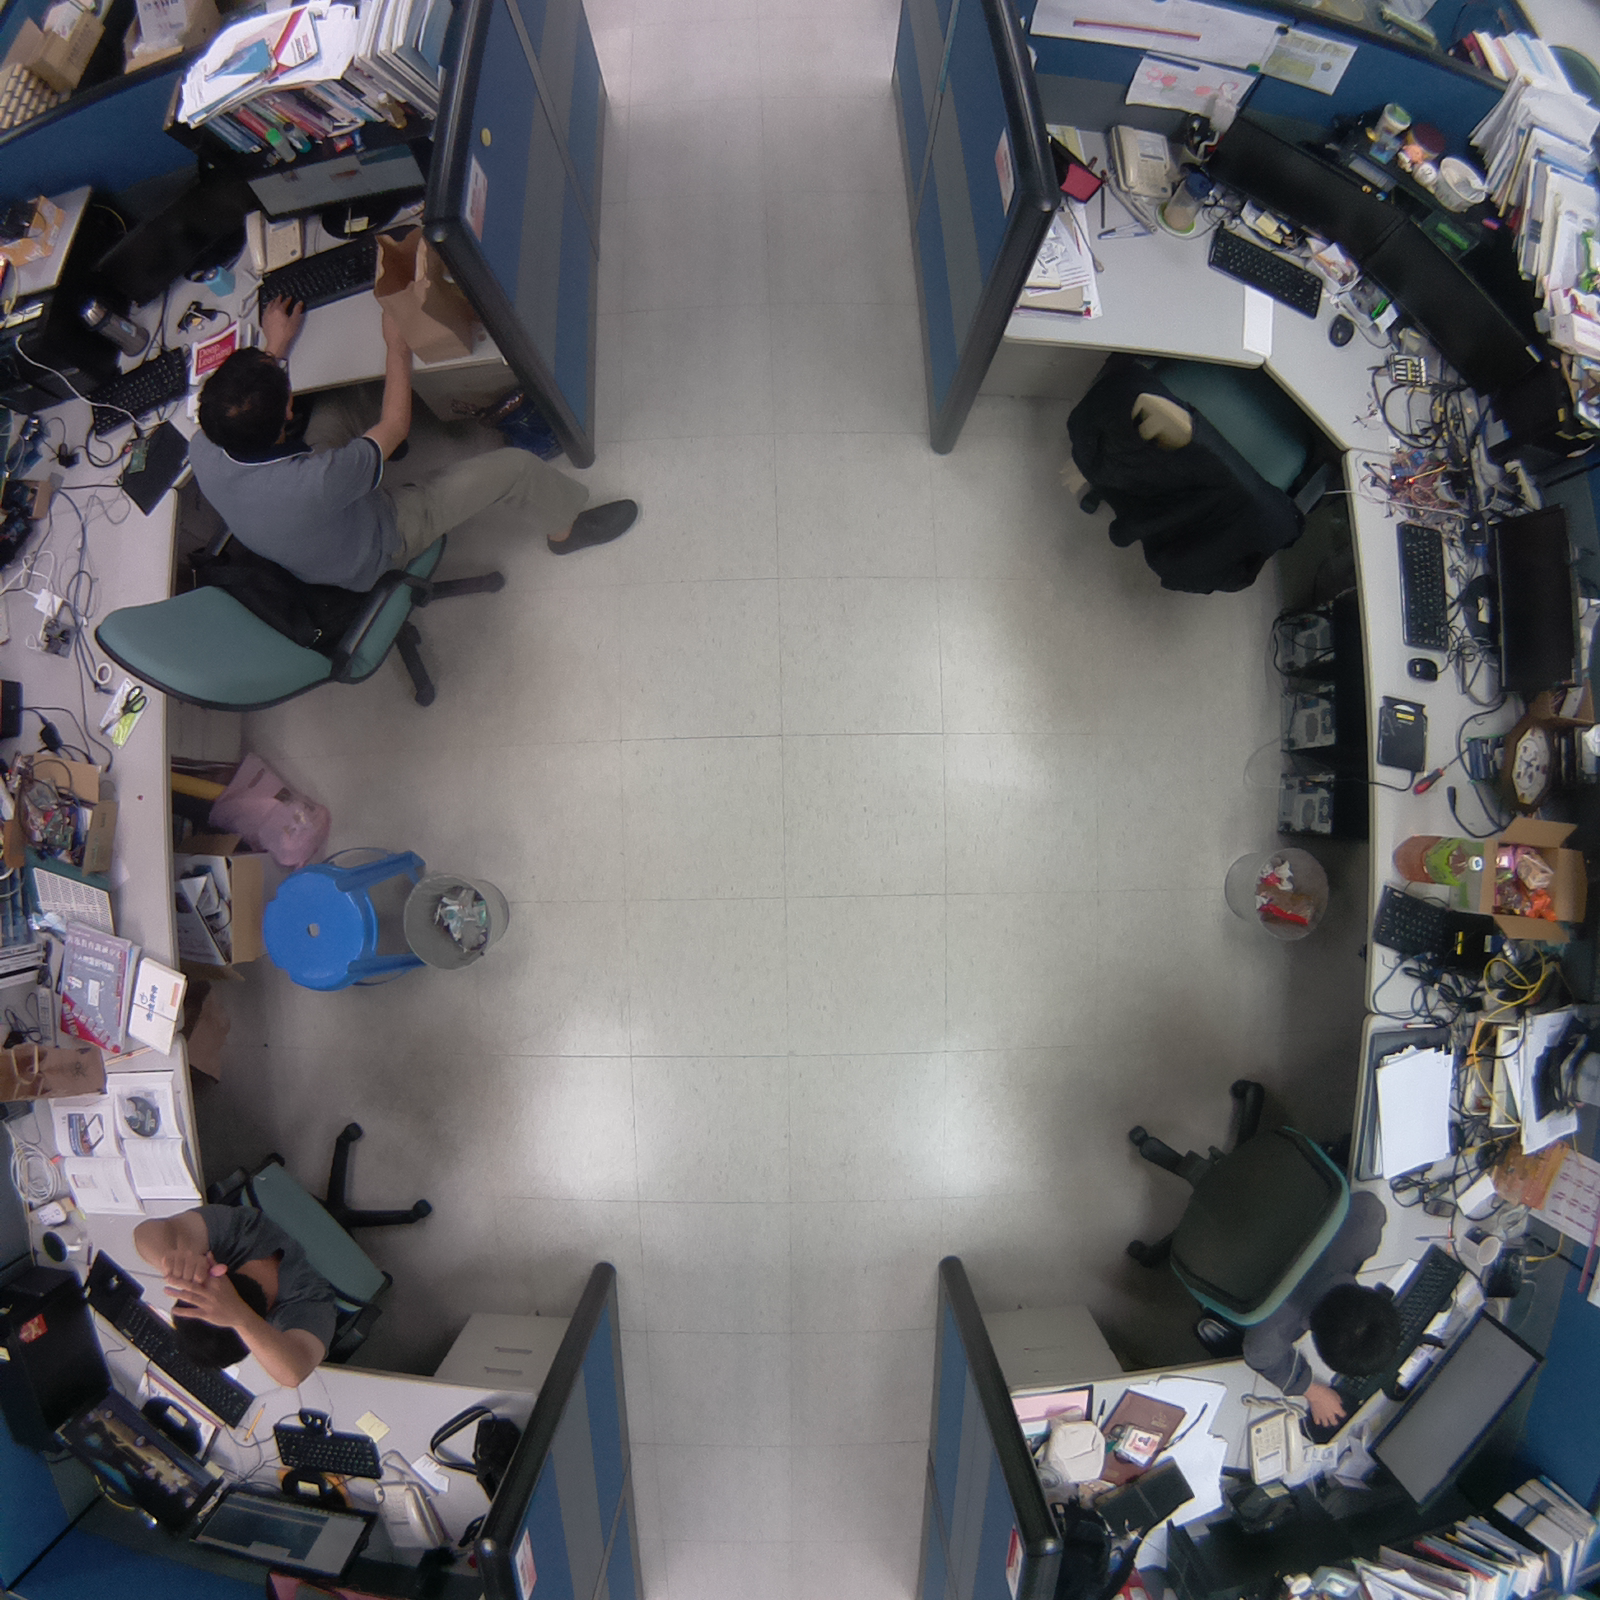chair: (1053, 329, 1329, 611)
head: (185, 345, 310, 457), (166, 1267, 278, 1374), (1310, 1274, 1410, 1386)
sitting: (83, 263, 653, 729), (1101, 1068, 1401, 1441), (119, 1099, 458, 1400)
